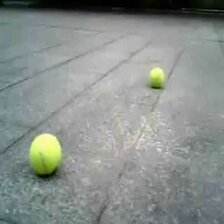tennis: (30, 134, 61, 173), (149, 68, 165, 85)
